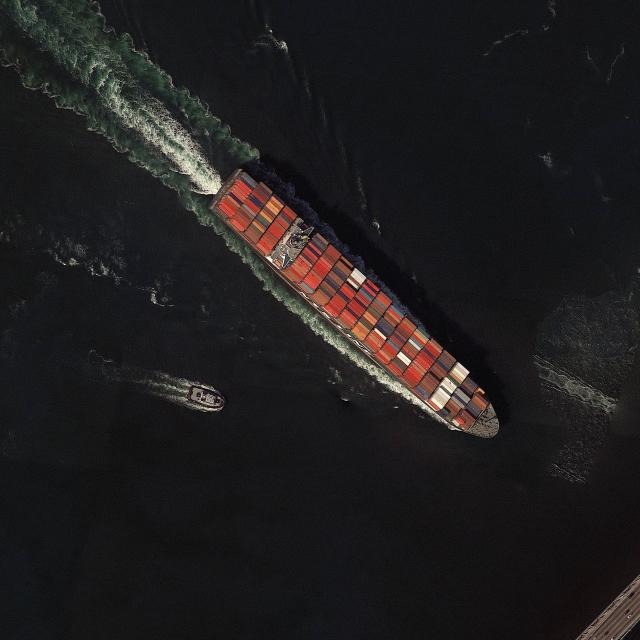ship: (207, 166, 501, 440), (186, 384, 226, 409)
